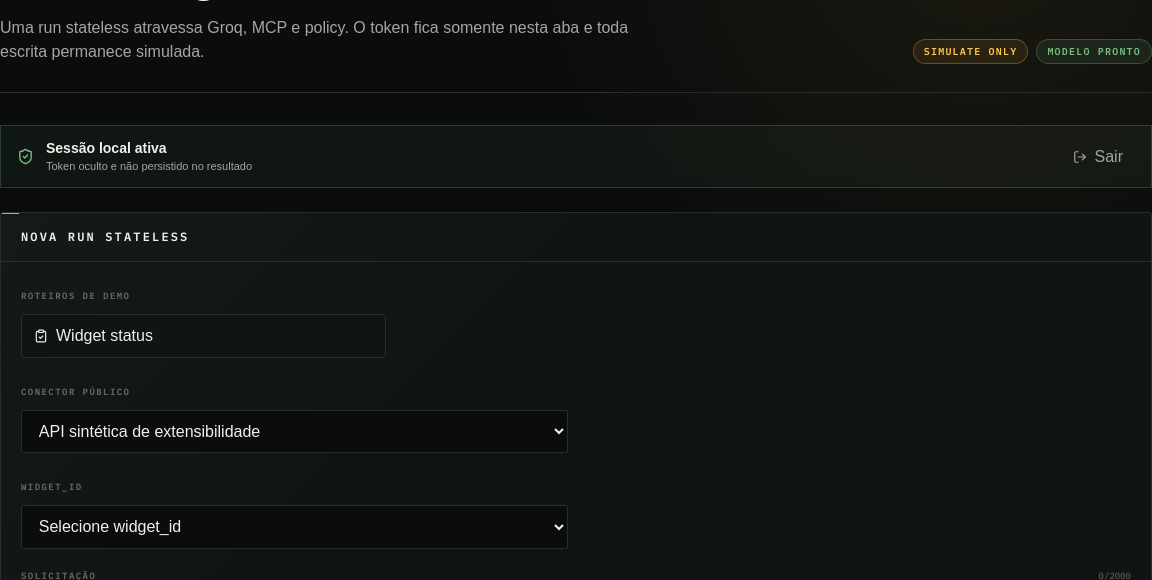
Test case: playground protegido › diferencia token inválido de quota e mantém o segredo fora da tela
The width and height of the screenshot is (1152, 580).
Select "widget-1 · Widget ativo" in the dropdown labelled "widget_id". click: (294, 527)
box: [21,505,568,549]
(page scrolled)
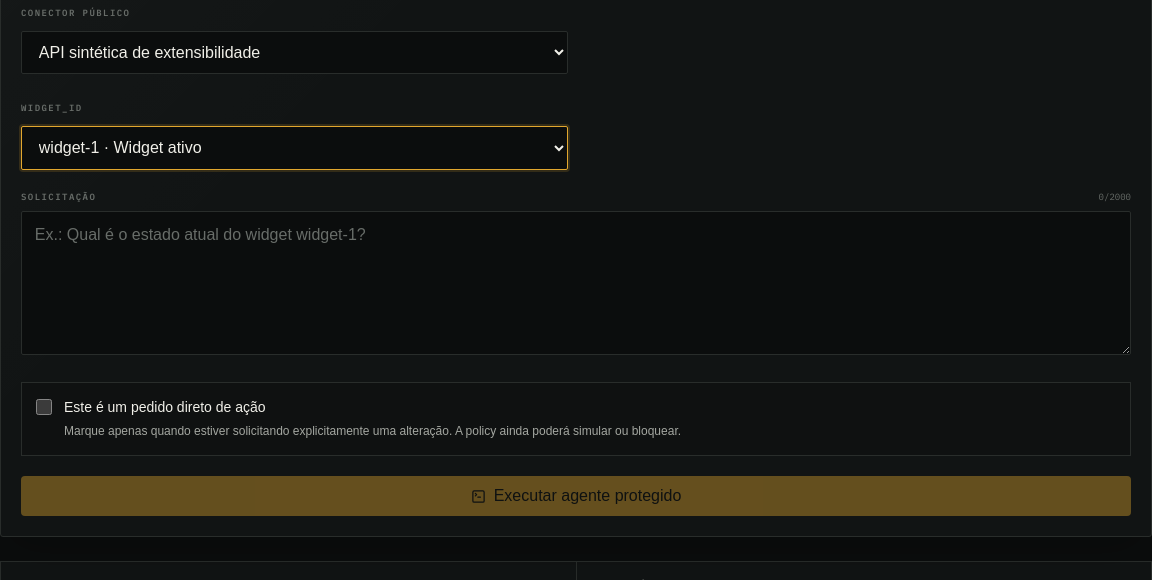
Type "Consulte o widget." into the text box labelled "Solicitação". click: (576, 283)
box: [21,211,1131,355]
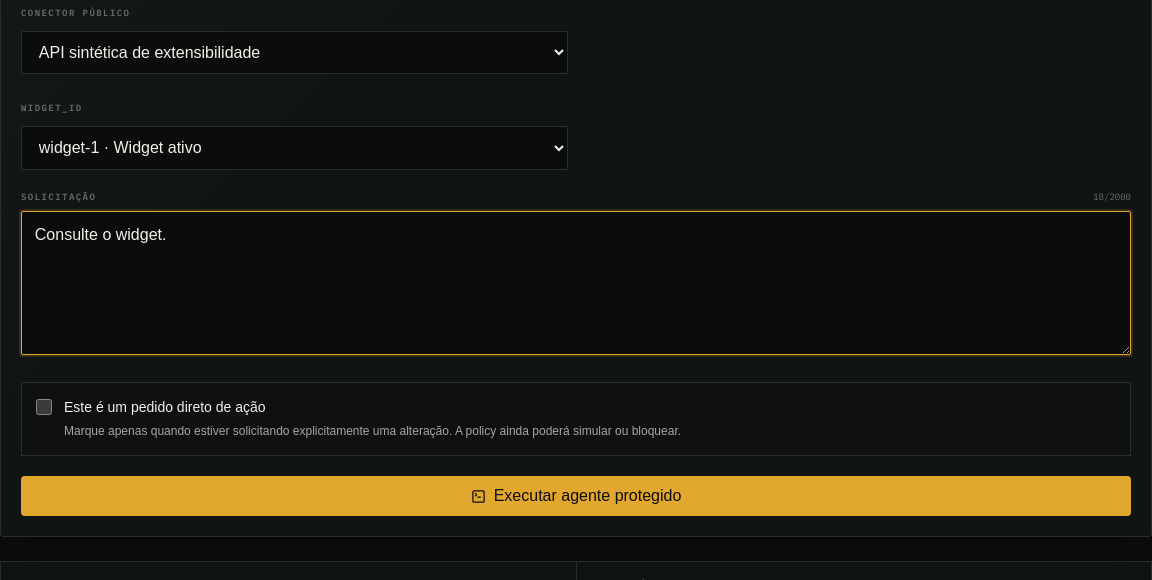
Click the button "Executar agente protegido". click: (576, 496)
box: [21,476,1131,516]
(page scrolled)
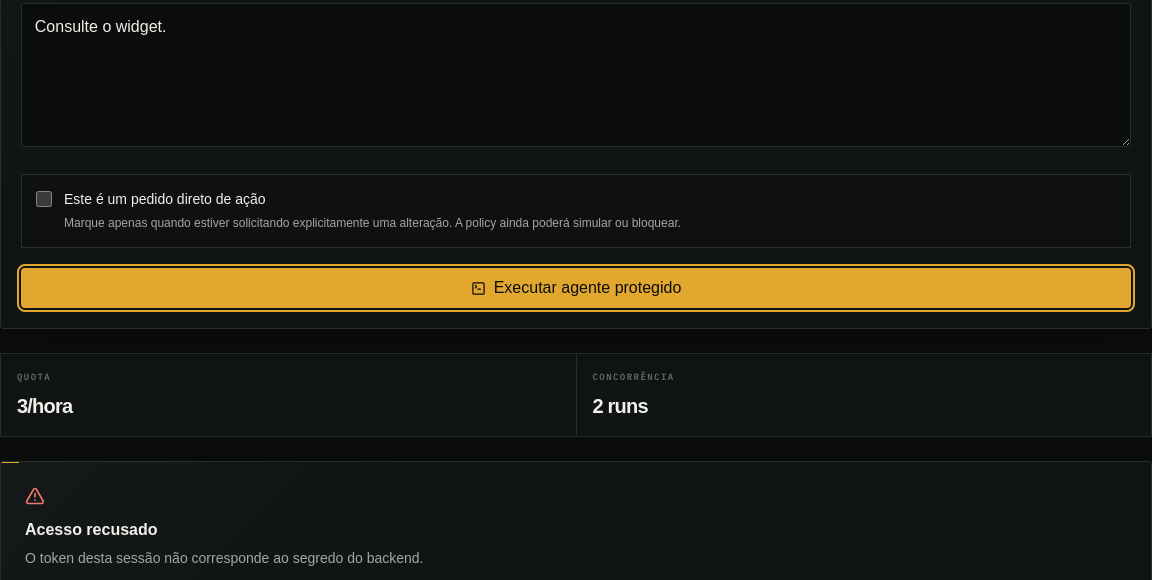
Now the message shows "Acesso recusado", box [25,521,158,538]
